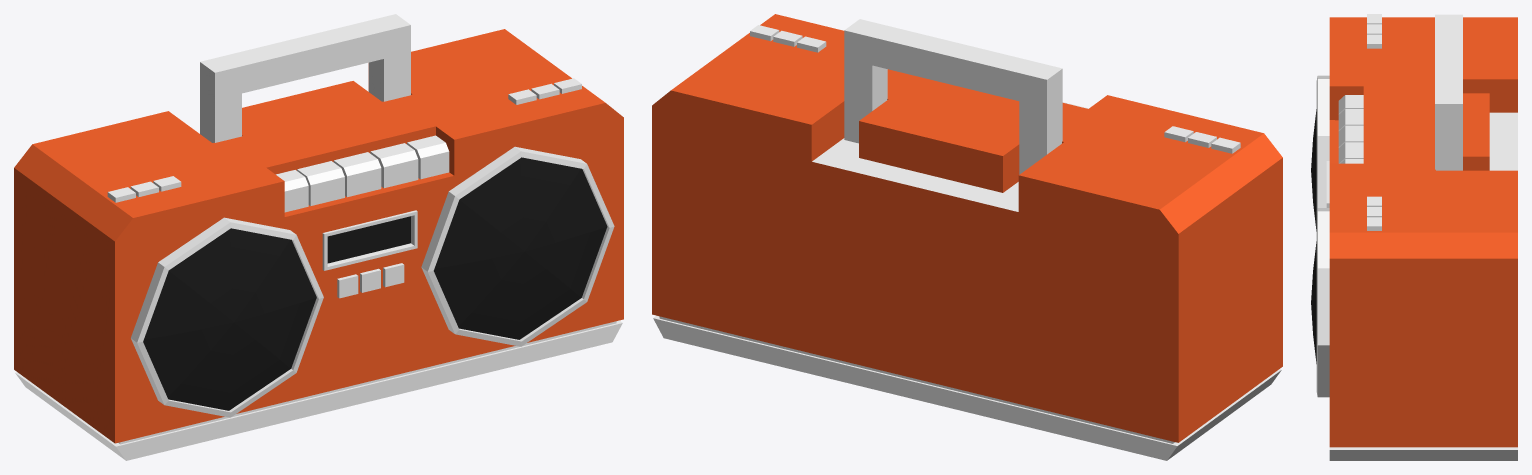
The model's file is BoomBox_01.gltf.
3 renders of one model, left to right at view 1: azimuth 30°, elevation 25°; view 2: azimuth 150°, elevation 25°; view 3: azimuth 270°, elevation 25°, orthographic. The views are drawn at different scales.
Visible parts, largest first — view 1: node-0; view 2: node-0; view 3: node-0.
Boxes of the visible parts, left/top/right/bottom form: node-0: left=14, top=14, right=623, bottom=460; node-0: left=652, top=14, right=1282, bottom=460; node-0: left=1311, top=14, right=1517, bottom=460.
Size of the model in its own units: 9.95 by 5.82 by 3.75.
